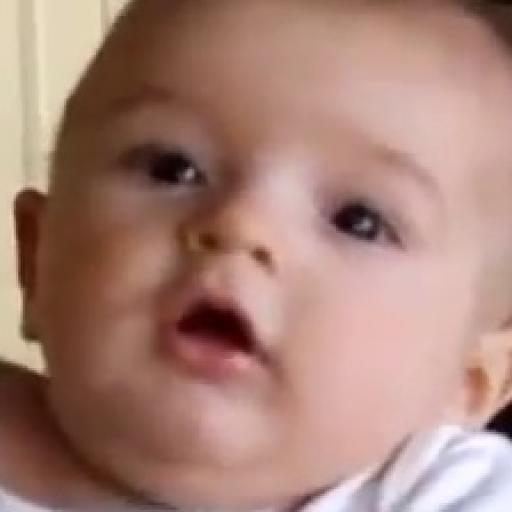Autism: (26, 18, 512, 512)
